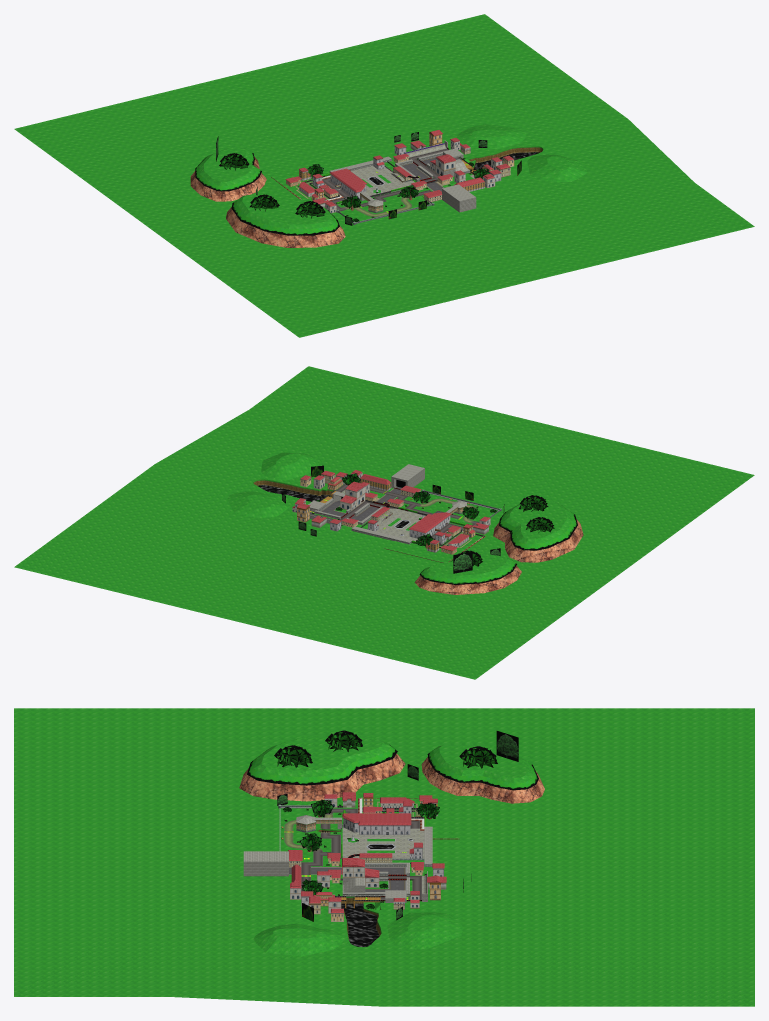
3 renders of one model, top to bottom at view 1: azimuth 30°, elevation 25°; view 2: azimuth 150°, elevation 25°; view 3: azimuth 270°, elevation 25°, orthographic. The views are drawn at different scales.
Parts seen in each view (by area): view 1: reduce__2__SKP__fountain_003, reduce__2__SKP__rockwall, reduce__2__SKP__roof, reduce__2__SKP__fountain_005, reduce__2__SKP__house_set2, reduce__2__SKP__bush, reduce__2__SKP__edge, reduce__2__SKP__house_set1, reduce__2__SKP__fountain_012, reduce__2__SKP__fountain_011, reduce__2__SKP__leaf; view 2: reduce__2__SKP__fountain_003, reduce__2__SKP__rockwall, reduce__2__SKP__roof, reduce__2__SKP__house_set1, reduce__2__SKP__bush, reduce__2__SKP__fountain_005, reduce__2__SKP__edge, reduce__2__SKP__house_set2, reduce__2__SKP__fountain_011, reduce__2__SKP__fountain_012, reduce__2__SKP__leaf, reduce__2__SKP__fountain_004 (+1 smaller); view 3: reduce__2__SKP__fountain_003, reduce__2__SKP__rockwall, reduce__2__SKP__roof, reduce__2__SKP__bush, reduce__2__SKP__fountain_005, reduce__2__SKP__edge, reduce__2__SKP__house_set2, reduce__2__SKP__house_set1, reduce__2__SKP__fountain_012, reduce__2__SKP__ef_sea, reduce__2__SKP__fountain_011, reduce__2__SKP__leaf (+2 smaller).
Part boxes in pixels (left/top/right/bottom): reduce__2__SKP__fountain_003: left=14, top=14, right=754, bottom=337; reduce__2__SKP__rockwall: left=190, top=157, right=345, bottom=247; reduce__2__SKP__roof: left=285, top=130, right=513, bottom=206; reduce__2__SKP__fountain_005: left=330, top=140, right=476, bottom=212; reduce__2__SKP__house_set2: left=299, top=140, right=514, bottom=213; reduce__2__SKP__bush: left=216, top=132, right=487, bottom=225; reduce__2__SKP__edge: left=195, top=151, right=339, bottom=235; reduce__2__SKP__house_set1: left=286, top=132, right=501, bottom=207; reduce__2__SKP__fountain_012: left=298, top=144, right=474, bottom=195; reduce__2__SKP__fountain_011: left=322, top=148, right=462, bottom=211; reduce__2__SKP__leaf: left=307, top=164, right=490, bottom=208; reduce__2__SKP__fountain_003: left=14, top=366, right=754, bottom=679; reduce__2__SKP__rockwall: left=414, top=519, right=583, bottom=594; reduce__2__SKP__roof: left=292, top=470, right=490, bottom=550; reduce__2__SKP__house_set1: left=297, top=475, right=488, bottom=554; reduce__2__SKP__bush: left=282, top=492, right=554, bottom=573; reduce__2__SKP__fountain_005: left=308, top=464, right=466, bottom=542; reduce__2__SKP__edge: left=419, top=505, right=577, bottom=584; reduce__2__SKP__house_set2: left=292, top=472, right=490, bottom=546; reduce__2__SKP__fountain_011: left=309, top=483, right=479, bottom=541; reduce__2__SKP__fountain_012: left=342, top=490, right=458, bottom=547; reduce__2__SKP__leaf: left=342, top=473, right=479, bottom=546; reduce__2__SKP__fountain_004: left=314, top=490, right=499, bottom=544; reduce__2__SKP__fountain_003: left=14, top=708, right=754, bottom=1006; reduce__2__SKP__rockwall: left=239, top=753, right=544, bottom=803; reduce__2__SKP__roof: left=288, top=792, right=446, bottom=912; reduce__2__SKP__bush: left=274, top=730, right=518, bottom=920; reduce__2__SKP__fountain_005: left=243, top=815, right=432, bottom=902; reduce__2__SKP__edge: left=247, top=742, right=538, bottom=790; reduce__2__SKP__house_set2: left=289, top=798, right=423, bottom=921; reduce__2__SKP__house_set1: left=301, top=797, right=446, bottom=906; reduce__2__SKP__fountain_012: left=332, top=805, right=427, bottom=894; reduce__2__SKP__ef_sea: left=341, top=839, right=412, bottom=947; reduce__2__SKP__fountain_011: left=301, top=808, right=421, bottom=899; reduce__2__SKP__leaf: left=300, top=799, right=439, bottom=895.
Bounding box in the file's own units: 211784 × 23291 × 222329.
37 materials, 37 textured.
